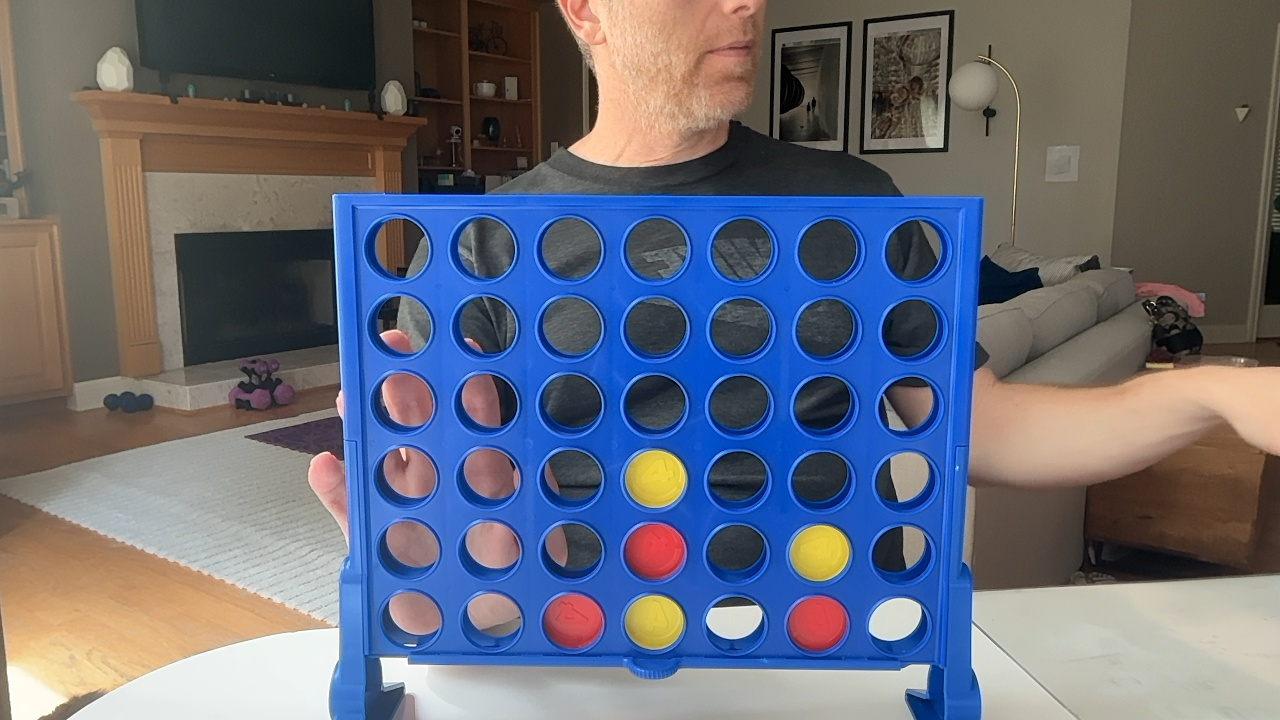red piece: (624, 523, 686, 580), (787, 596, 848, 652), (543, 593, 603, 649)
yellow piece: (624, 450, 687, 507), (789, 524, 851, 581), (624, 595, 684, 650)
